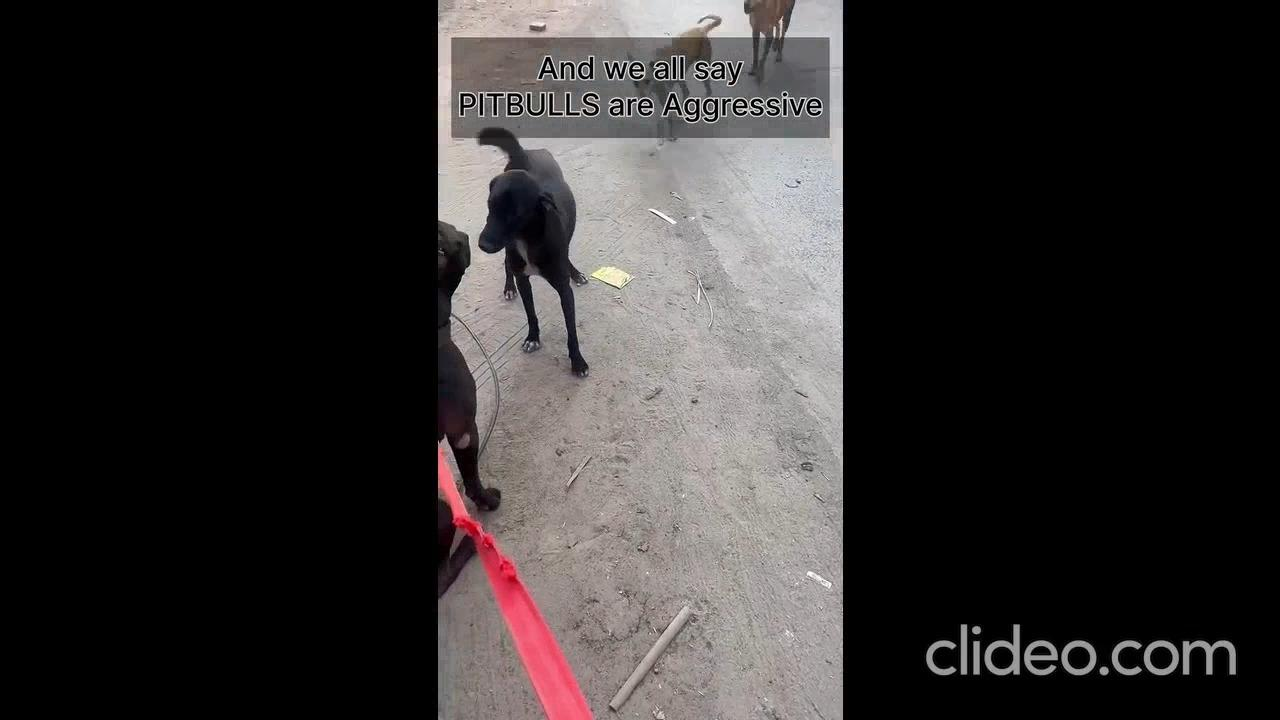dog: (481, 117, 600, 388)
